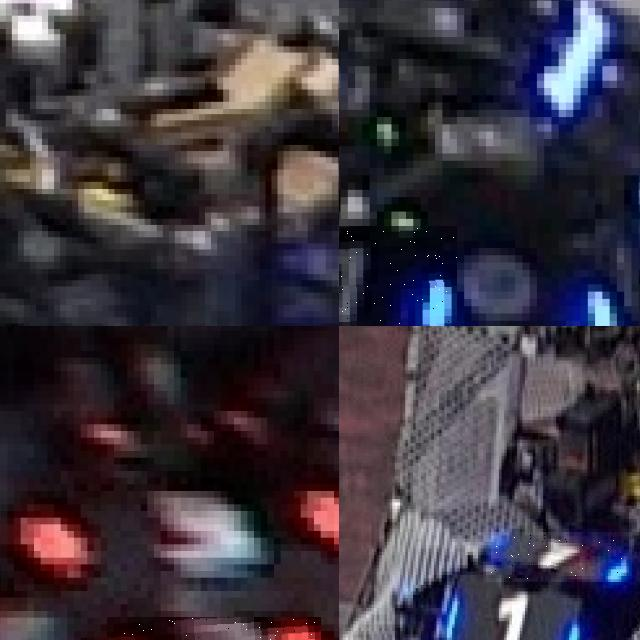B1: (339, 226, 457, 326), (438, 578, 587, 640), (486, 532, 632, 582)
